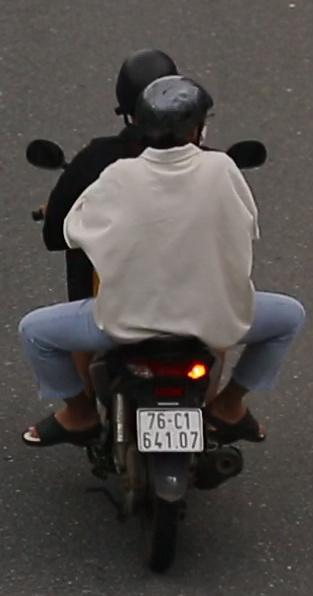LP: (134, 405, 207, 460)
helmet: (137, 74, 218, 160), (112, 46, 180, 101)
